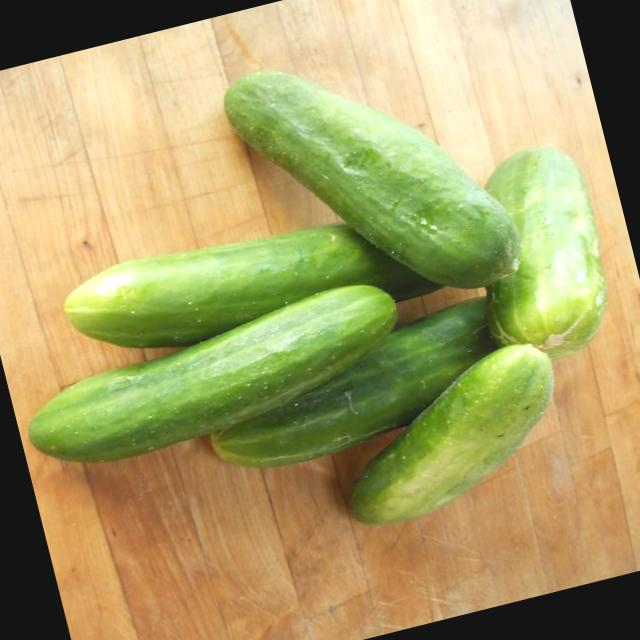Cucumber: (218, 21, 530, 337), (9, 272, 413, 480), (62, 189, 444, 377), (192, 298, 512, 480), (317, 338, 579, 534)
